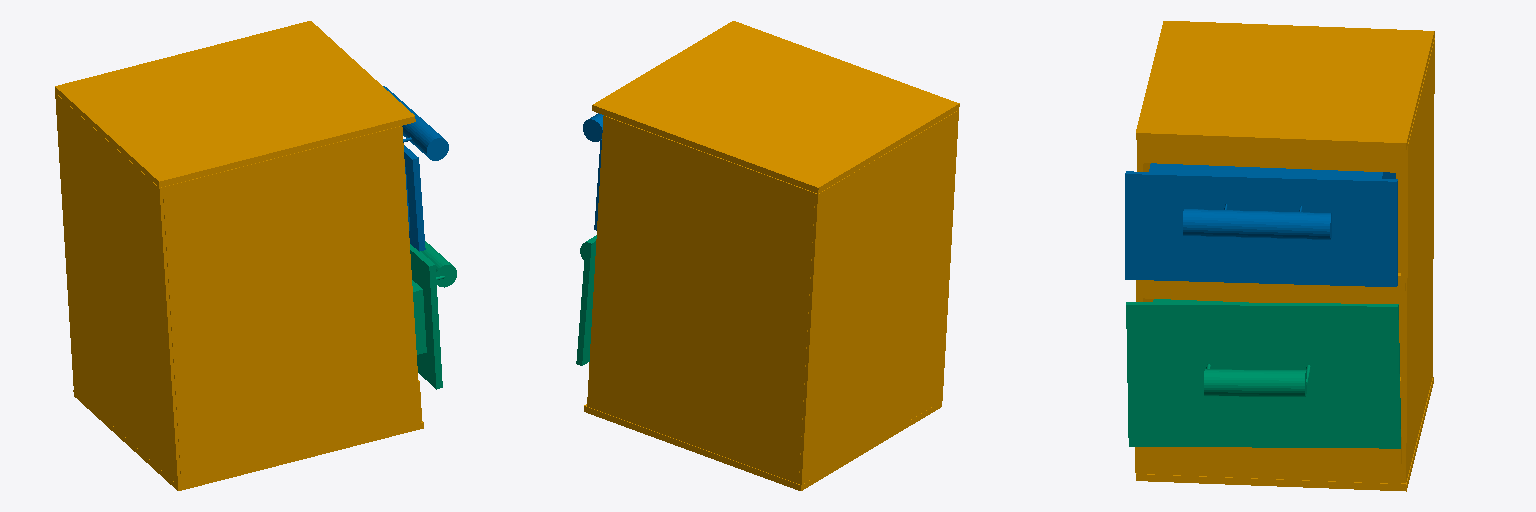
The robot description file, URDF, robot "ikeasmall":
<?xml version="1.0"?>
<robot name="ikeasmall">
  <link name ="rb0">
    <visual>
      <origin xyz='0.365970 0.123400 -0.462693' rpy='-0.000000 -0.061733 -0.091336'/>
      <geometry>
        <mesh filename="package://articulated_objects_db/data/objects/ikeasmall/meshes/ikeasmall_base.obj"  scale="1 1 1" />
      </geometry>
    </visual>
  </link>
  <joint name="j_0_2" type="prismatic">
    <parent link="rb0"/>
    <child link="rb2"/>
    <origin xyz="0.338679541953 -0.108210585648 -0.266701982116" rpy="0 0 0 "/>
    <axis xyz="0.995941653482 -0.0573652958422 0.0693501672145"/>
    <limit effort="30" velocity="1.0" lower="-3.1416" upper="3.1416"/>
  </joint>
  <joint name="j_0_fixed" type="fixed">
    <parent link="rb2"/>
    <child link="rb2_marker"/>
      <origin xyz="0.0 0.0 0.0" rpy="-1.55361807049 -0.0701876488589 -0.0102692740561"/>
    <limit effort="30" velocity="1.0" lower="-3.1416" upper="3.1416"/>
  </joint>
  <joint name="j_0_1" type="prismatic">
    <parent link="rb0"/>
    <child link="rb1"/>
    <origin xyz="0.39833866719 0.260149619428 -0.137811329749" rpy="0 0 0 "/>
    <axis xyz="0.995180385537 -0.064250767131 0.074079951168"/>
    <limit effort="30" velocity="1.0" lower="-3.1416" upper="3.1416"/>
  </joint>
  <joint name="j_1_fixed" type="fixed">
    <parent link="rb1"/>
    <child link="rb1_marker"/>
      <origin xyz="0.0 0.0 0.0" rpy="0.0759774693984 -0.817607501438 -2.8784033907"/>
    <limit effort="30" velocity="1.0" lower="-3.1416" upper="3.1416"/>
  </joint>
  <link name ="rb2">
  </link>
  <link name ="rb2_marker">
    <visual>
      <origin xyz='0.039773 0.041121 0.190295' rpy='1.571464 0.056354 0.000038'/>
      <geometry>
        <mesh filename="package://articulated_objects_db/data/objects/ikeasmall/meshes/ikeasmall_lower.obj"  scale="1 1 1" />
      </geometry>
    </visual>
  </link>
  <link name ="rb1">
  </link>
  <link name ="rb1_marker">
    <visual>
      <origin xyz='0.082051 0.159542 -0.055907' rpy='0.464755 -0.787265 2.561344'/>
      <geometry>
        <mesh filename="package://articulated_objects_db/data/objects/ikeasmall/meshes/ikeasmall_upper.obj"  scale="1 1 1" />
      </geometry>
    </visual>
  </link>
</robot>

--- What the picture shows (computed from the rendered views, not written in the file) ---
Views: 3 orthographic renders of the robot side by side, from view 1: azimuth 30°, elevation 25°; view 2: azimuth 150°, elevation 25°; view 3: azimuth 270°, elevation 25°.
Robot: ikeasmall — 5 links, 4 joints (2 prismatic, 2 fixed); root link rb0; default pose: every joint at zero.
Visible links, largest first — view 1: rb0, rb2_marker, rb1_marker; view 2: rb0, rb2_marker, rb1_marker; view 3: rb0, rb2_marker, rb1_marker.
Link boxes in pixels (x1,y1,x2,y2): rb0: (55,21,423,490); rb2_marker: (410,241,456,389); rb1_marker: (383,86,448,251); rb0: (584,21,959,490); rb2_marker: (576,235,596,365); rb1_marker: (583,113,603,230); rb0: (1135,21,1434,491); rb2_marker: (1126,299,1400,448); rb1_marker: (1125,163,1397,286).
Size in the robot's own frame: 0.5205 by 0.3972 by 0.5096 metres.
3 mesh visuals loaded from 3 distinct referenced files (3 OBJ).